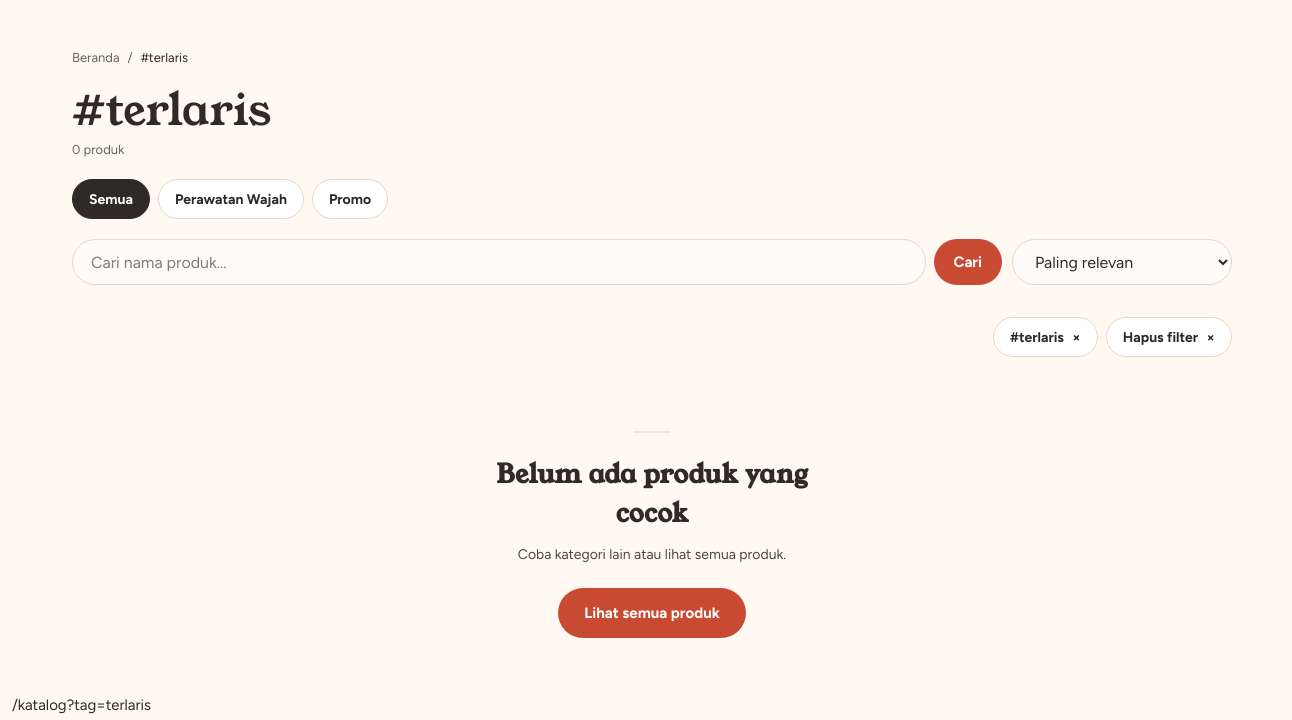
Test: CatalogRoute › asks the API for a product tag, titles it, keeps it on a sort and removes it from its chip
Check: the heading "#terlaris" is shown, box [72,78,271,140]
Select "Harga terendah" in the dropdown named "Urutkan" at (1122, 262), box [1012,239,1232,285]
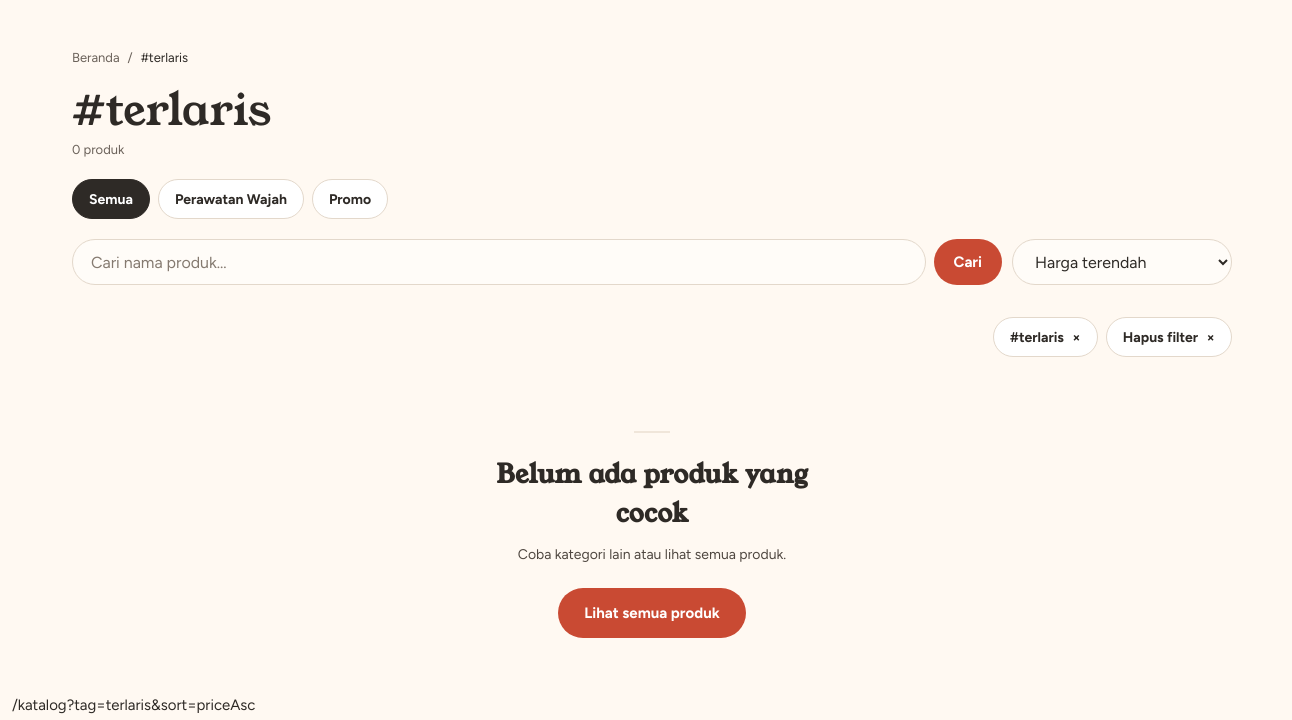
Click the link with aria-label "Hapus filter #terlaris" at (1045, 337), box [993,317,1098,357]
(page scrolled)
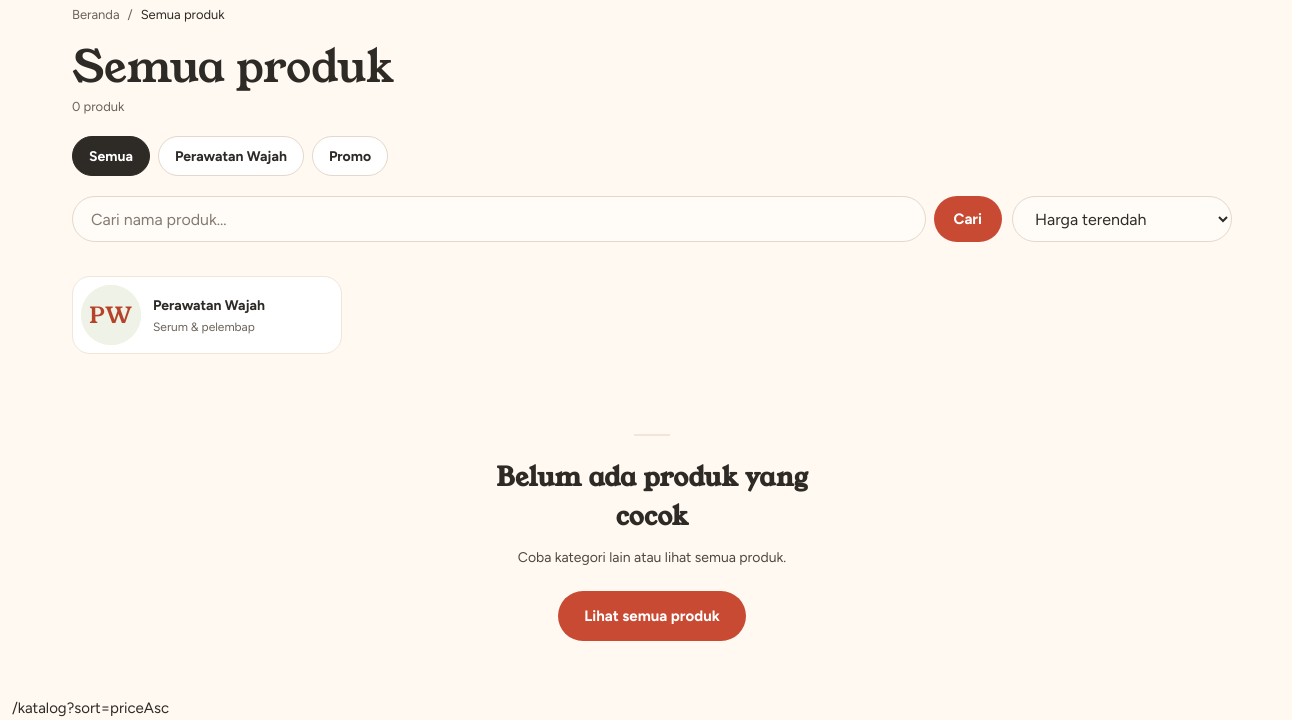
Check: the text with test id "where" reads "/katalog?sort=priceAsc", box [12,700,169,718]
